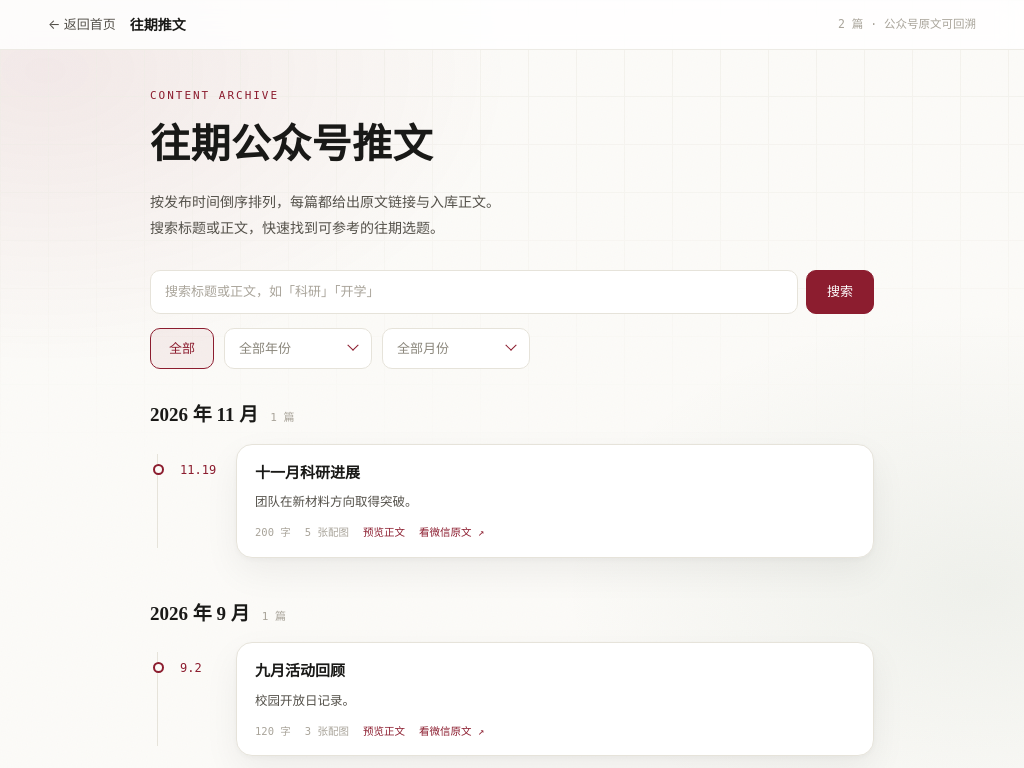
Test: 往期推文档案页 › 搜索按标题或正文过滤
Check: the link "九月活动回顾" is shown, box [255,660,345,680]
Type "新材料" into the field named "搜索推文".
click(474, 292); type("新材料")  # box [150,270,798,314]
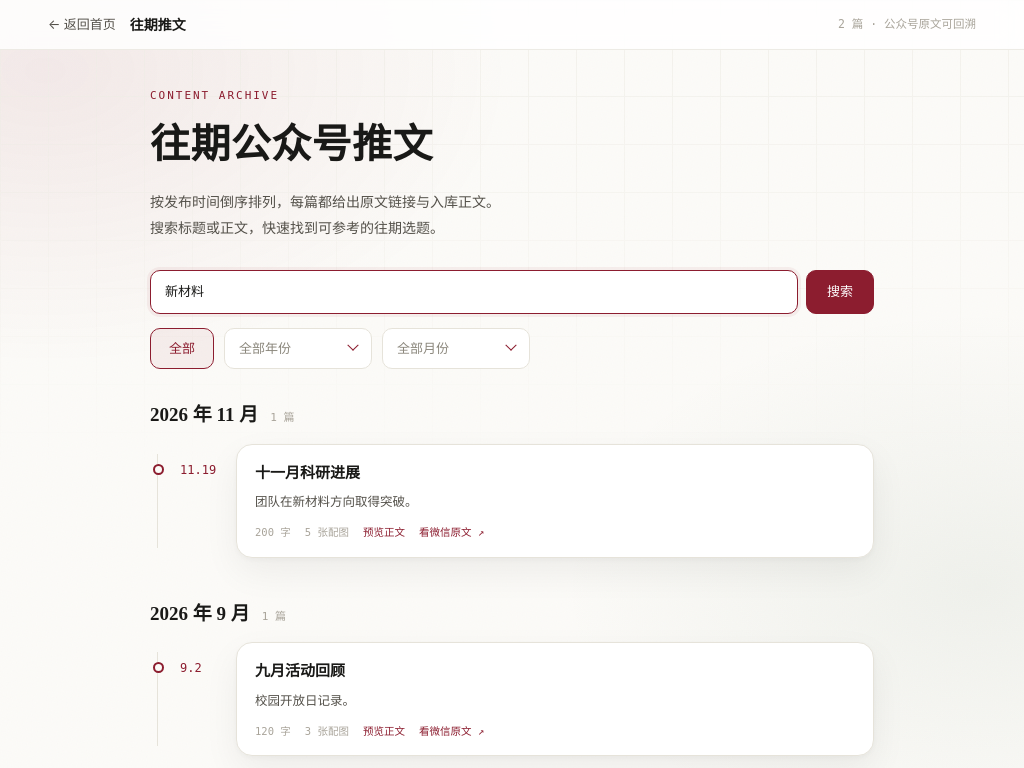
Click the button "搜索".
click(840, 292)  # box [806,270,874,314]
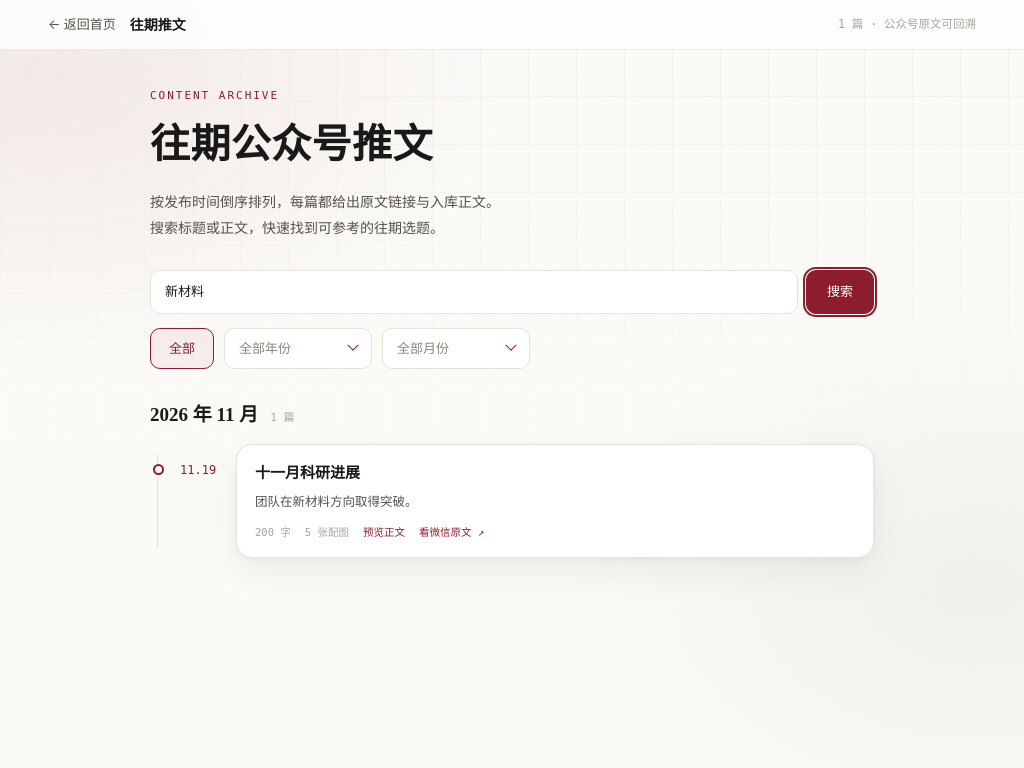
Check: the link "十一月科研进展" is shown, box [255,462,360,482]
Check: the link "九月活动回顾" is gone
